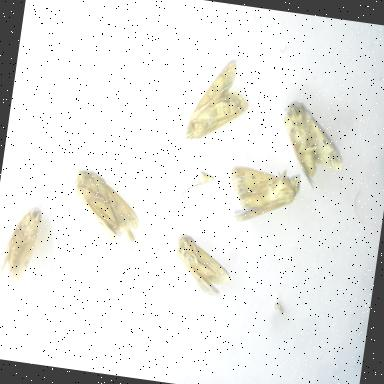abw: (270, 97, 352, 196), (63, 166, 148, 256), (180, 52, 256, 152), (221, 160, 305, 234), (166, 231, 237, 302), (0, 197, 45, 302)
